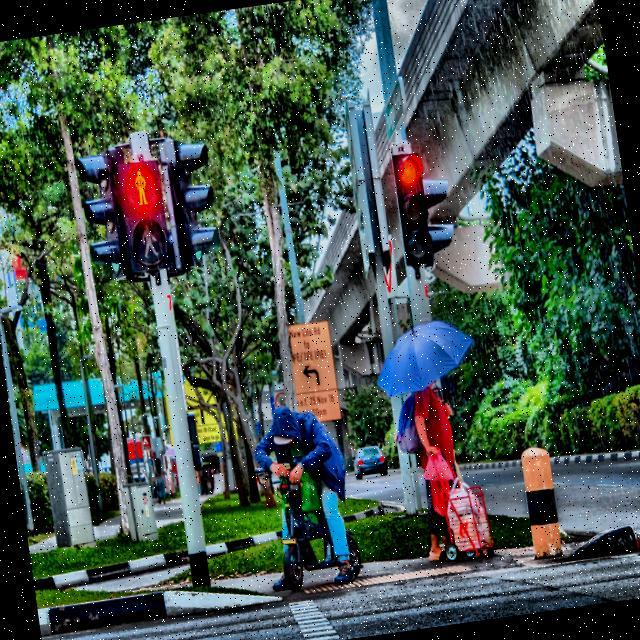red_light: (132, 167, 150, 209)
